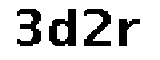2: (83, 6, 115, 51)
3: (11, 6, 44, 48)
d: (46, 4, 81, 48)
r: (117, 17, 142, 49)
